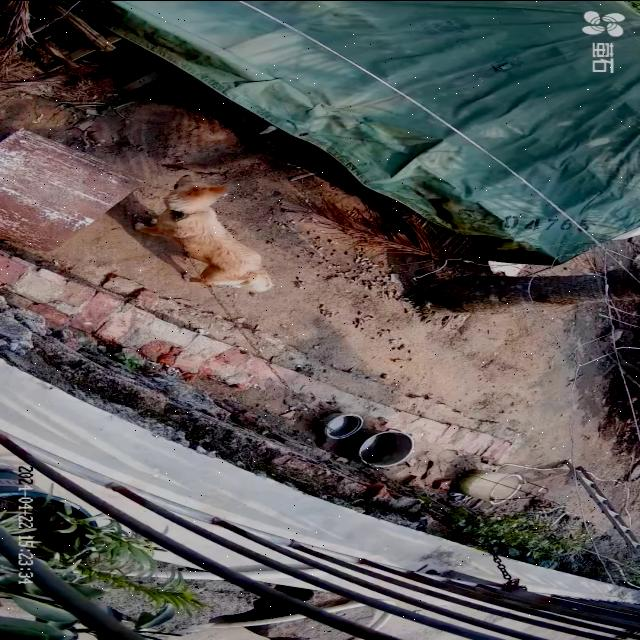dog: (134, 175, 276, 293)
